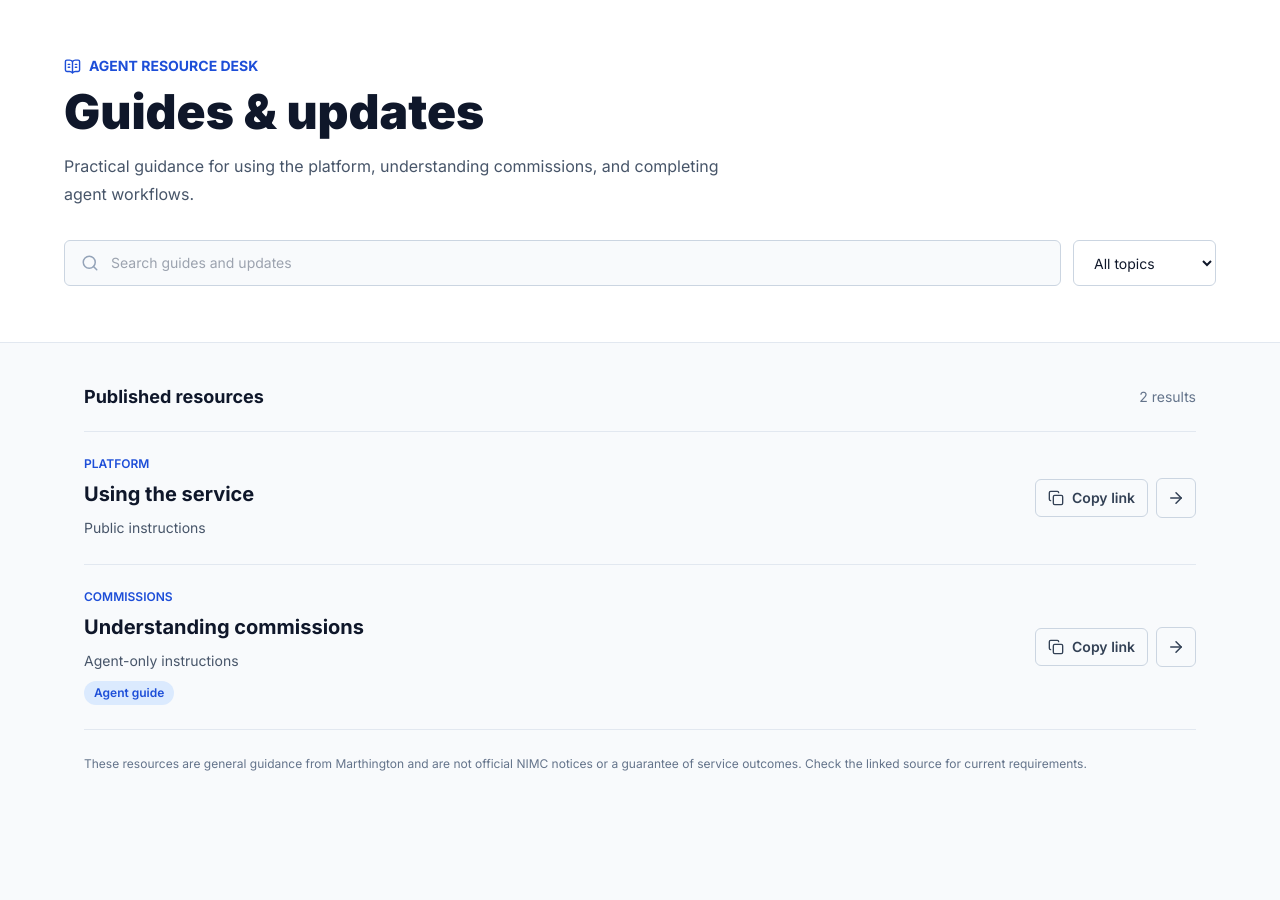
Test: Guides › loads public and agent-only guides in the signed-in workspace
This screenshot has width=1280, height=900.
Expected: the link "Understanding commissions" is shown, [84,615,364,639]
Expected: the link "Using the service" is shown, [84,482,254,506]
Step 1. Click the button with aria-label "Copy guide link" → {"x": 1092, "y": 647}, box [1035,628,1148,666]
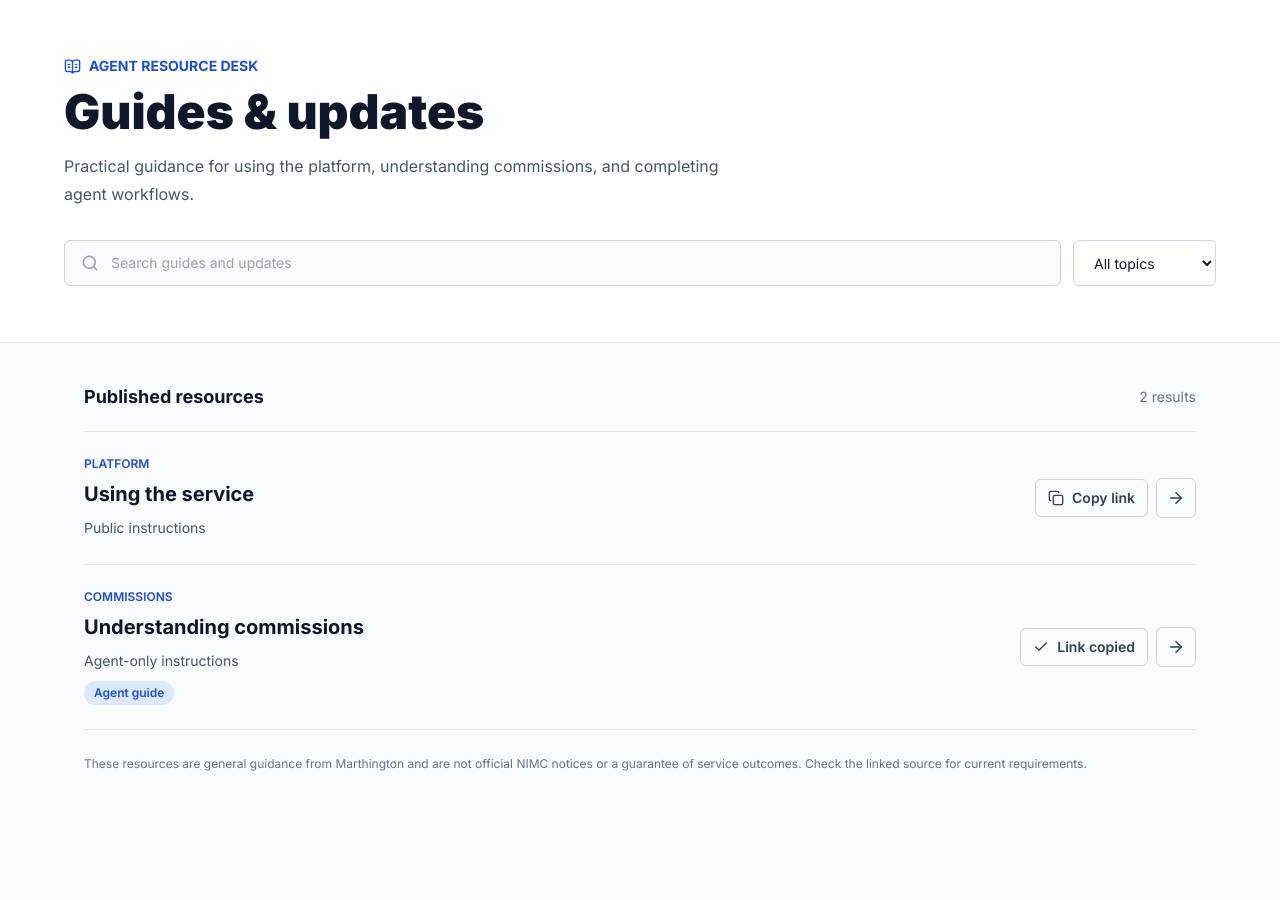
Now the button "Link copied" is shown, box [1020,628,1148,666]
